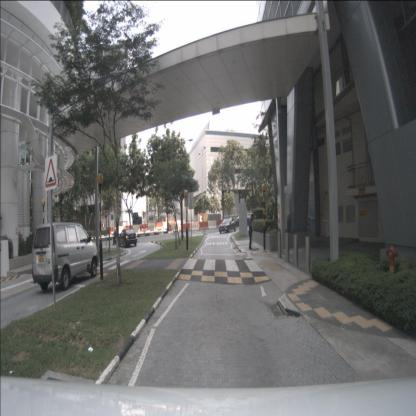barrier: (182, 222, 191, 232), (207, 220, 217, 229), (198, 221, 208, 230), (190, 222, 200, 231), (216, 219, 224, 228), (170, 222, 178, 231), (124, 225, 132, 233), (156, 222, 164, 230), (147, 223, 156, 230), (175, 220, 182, 227), (176, 223, 183, 230), (141, 224, 148, 231), (132, 225, 140, 231), (119, 226, 124, 235), (110, 227, 115, 234), (163, 222, 167, 230)
cone: (179, 227, 181, 232)
